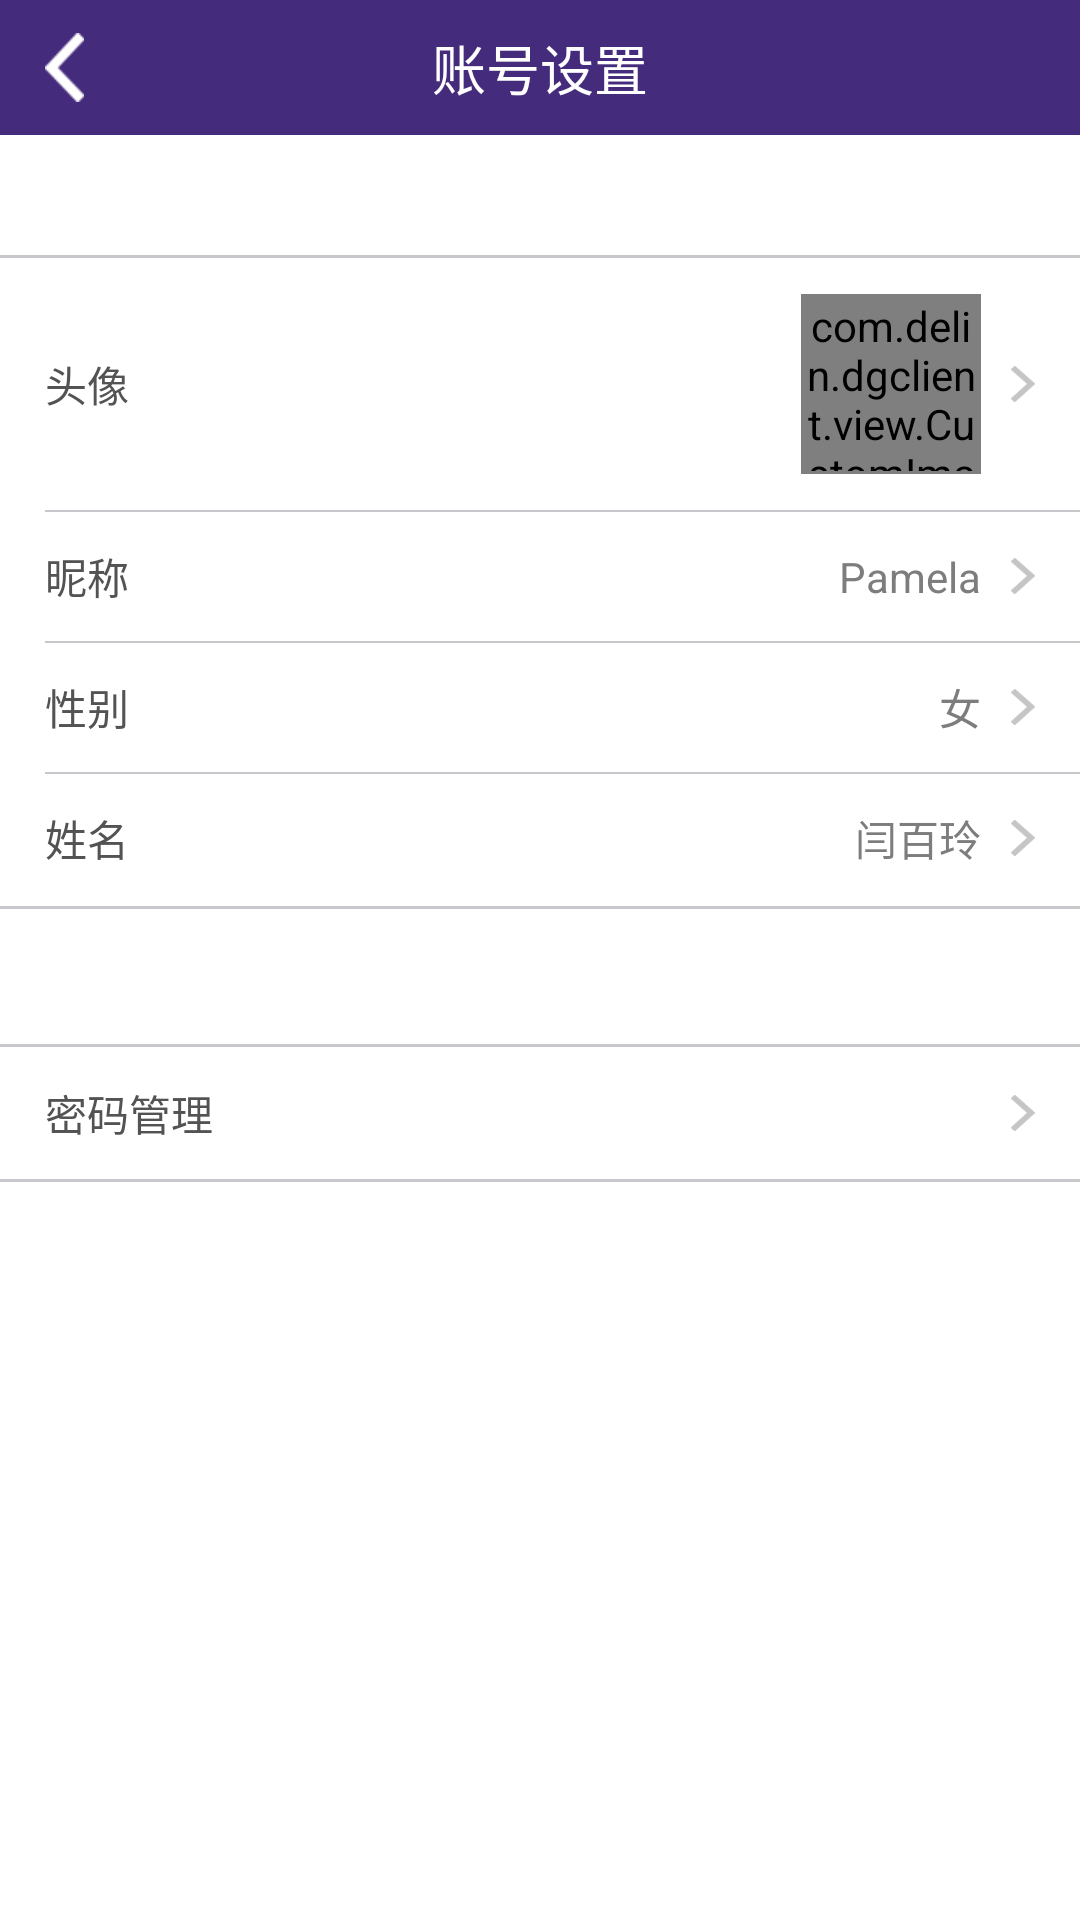

Locate icon controls on the screen. Image size 1080 × 1920, boxes as (x1,y1,x2,y2).
arrow: (1011,366,1035,402), (1011,558,1035,594), (1011,689,1035,725), (1011,820,1035,856), (1011,1095,1035,1131)
